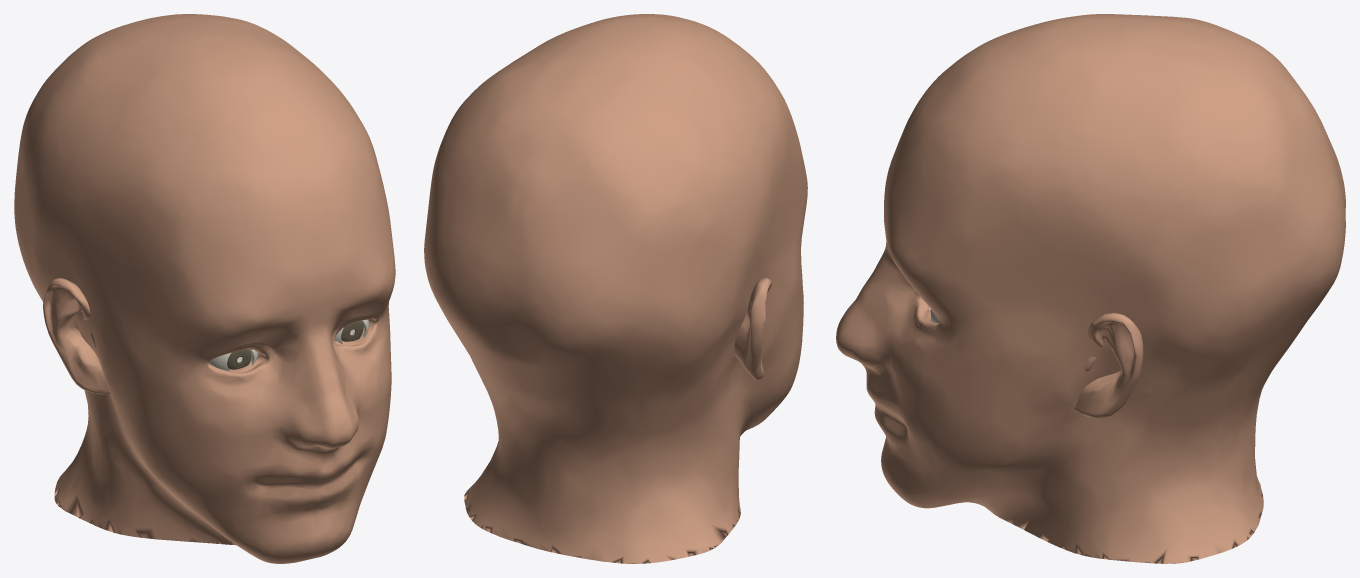
Rendered from skin.glb.
3 renders of one model, left to right at view 1: azimuth 30°, elevation 25°; view 2: azimuth 150°, elevation 25°; view 3: azimuth 270°, elevation 25°, orthographic. The views are drawn at different scales.
Visible parts, largest first — view 1: FJ2810 · skin, FJ2811 · subdivision of head; view 2: FJ2810 · skin, FJ2811 · subdivision of head; view 3: FJ2810 · skin, FJ2811 · subdivision of head.
Part boxes in pixels (x1,y1,x2,y2): FJ2810 · skin: (14,14,395,563); FJ2811 · subdivision of head: (43,278,110,394); FJ2810 · skin: (424,14,807,563); FJ2811 · subdivision of head: (734,278,771,380); FJ2810 · skin: (836,14,1345,563); FJ2811 · subdivision of head: (1074,313,1143,418).
Size of the model in its own units: 2.39 by 3.35 by 3.28.
